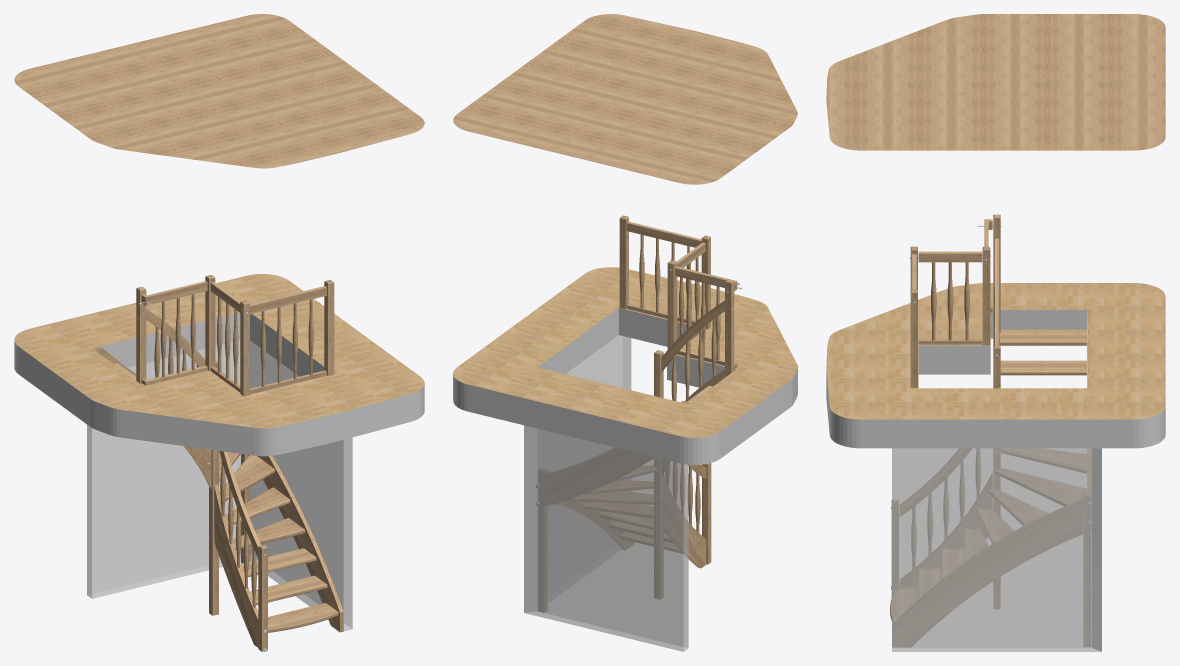
3 renders of one model, left to right at view 1: azimuth 30°, elevation 25°; view 2: azimuth 150°, elevation 25°; view 3: azimuth 270°, elevation 25°, orthographic. The views are drawn at different scales.
Parts seen in each view (by area): view 1: StairCon (×23); view 2: StairCon (×21); view 3: StairCon (×26).
Part boxes in pixels (bbox=[...]): StairCon (×23): bbox=[14, 14, 424, 651]; StairCon (×21): bbox=[453, 14, 797, 651]; StairCon (×26): bbox=[826, 14, 1165, 651].
Size of what is drawn, in the model's own units: 3.05 by 3.2 by 5.51.
14 materials, 8 textured.
